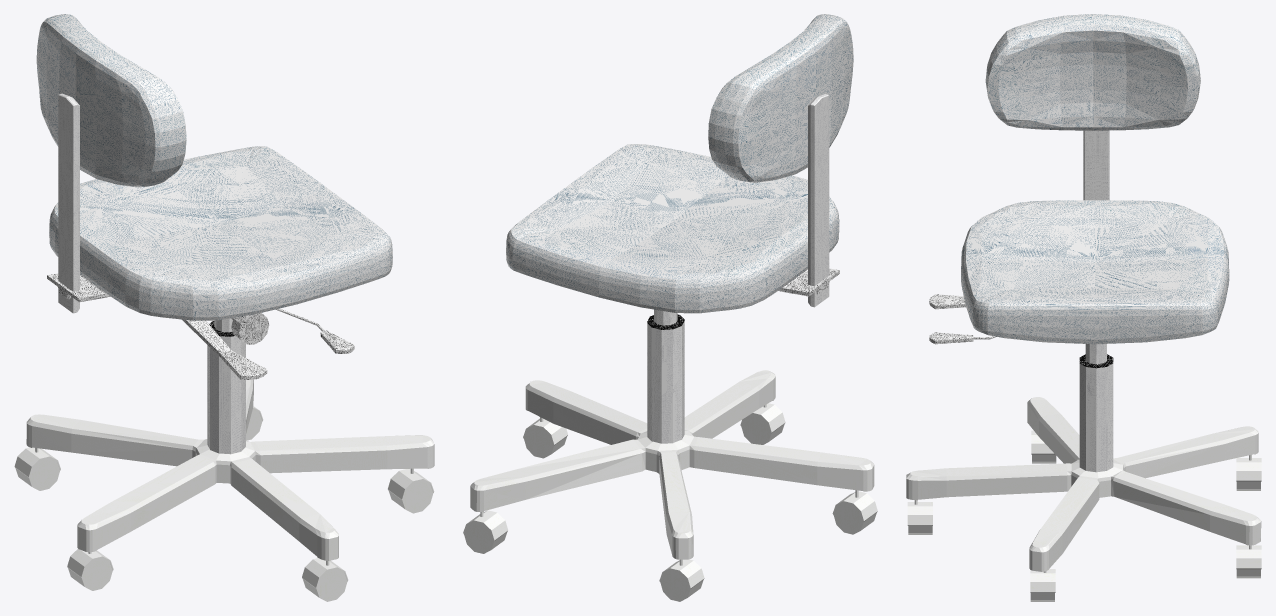
Rendered from appearance.glb.
3 views of the same model, side by side, from view 1: azimuth 30°, elevation 25°; view 2: azimuth 150°, elevation 25°; view 3: azimuth 270°, elevation 25° (orthographic). The views are drawn at different scales.
Parts seen in each view (by area): view 1: visual_1_0, visual_1_2, visual_1_1, visual_0_5, visual_0_7, visual_0_9, visual_1_3, visual_0_3, visual_1_4, visual_0_1, visual_0_6, visual_0_4 (+12 smaller); view 2: visual_1_0, visual_1_2, visual_1_1, visual_0_11, visual_0_9, visual_1_3, visual_0_1, visual_1_4, visual_0_5, visual_0_7, visual_0_3, visual_0_12 (+12 smaller); view 3: visual_1_0, visual_1_2, visual_1_1, visual_1_3, visual_0_3, visual_0_11, visual_0_7, visual_0_1, visual_0_5, visual_0_9, visual_1_4, visual_0_12 (+12 smaller).
Part boxes in pixels (x1,y1,x2,y2): visual_1_0: [49, 146, 392, 320]; visual_1_2: [36, 14, 186, 187]; visual_1_1: [49, 146, 391, 320]; visual_0_5: [250, 435, 434, 473]; visual_0_7: [26, 414, 209, 466]; visual_0_9: [77, 452, 216, 552]; visual_1_3: [37, 14, 186, 187]; visual_0_3: [216, 447, 338, 560]; visual_1_4: [58, 93, 79, 313]; visual_0_1: [207, 322, 245, 454]; visual_0_6: [251, 435, 432, 472]; visual_0_4: [216, 448, 338, 560]; visual_1_0: [506, 144, 839, 313]; visual_1_2: [708, 14, 853, 182]; visual_1_1: [506, 145, 839, 312]; visual_0_11: [470, 431, 694, 511]; visual_0_9: [680, 436, 874, 491]; visual_1_3: [708, 14, 853, 182]; visual_0_1: [647, 315, 684, 443]; visual_1_4: [808, 94, 829, 307]; visual_0_5: [525, 380, 647, 444]; visual_0_7: [645, 440, 693, 559]; visual_0_3: [684, 370, 775, 438]; visual_0_12: [470, 432, 693, 511]; visual_1_0: [961, 200, 1229, 344]; visual_1_2: [985, 14, 1200, 130]; visual_1_1: [961, 200, 1228, 343]; visual_1_3: [986, 14, 1200, 130]; visual_0_3: [906, 459, 1085, 500]; visual_0_11: [1080, 465, 1261, 545]; visual_0_7: [1113, 426, 1258, 478]; visual_0_1: [1079, 355, 1113, 472]; visual_0_5: [1029, 475, 1110, 571]; visual_0_9: [1027, 397, 1079, 463]; visual_1_4: [1083, 130, 1109, 200]; visual_0_12: [1084, 466, 1260, 544].
Size of the model in its own units: 1.12 by 1.55 by 1.09.
Materials: 54 (2 with a texture image).
